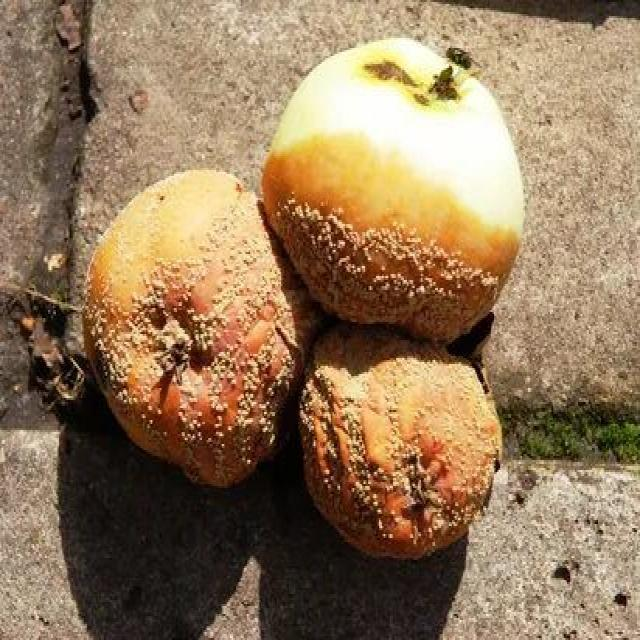Rotten: (272, 47, 546, 338), (74, 170, 304, 478), (292, 323, 520, 577)
